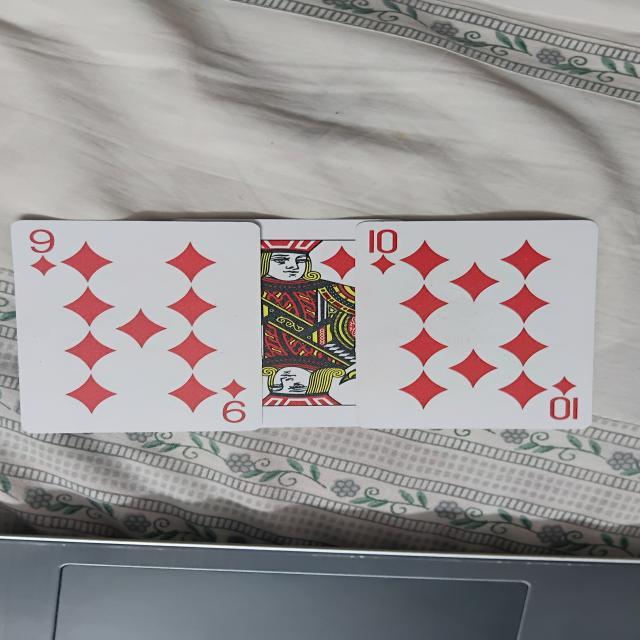10D: (373, 226, 600, 419)
9D: (8, 220, 251, 422)
JD: (260, 218, 362, 422)
